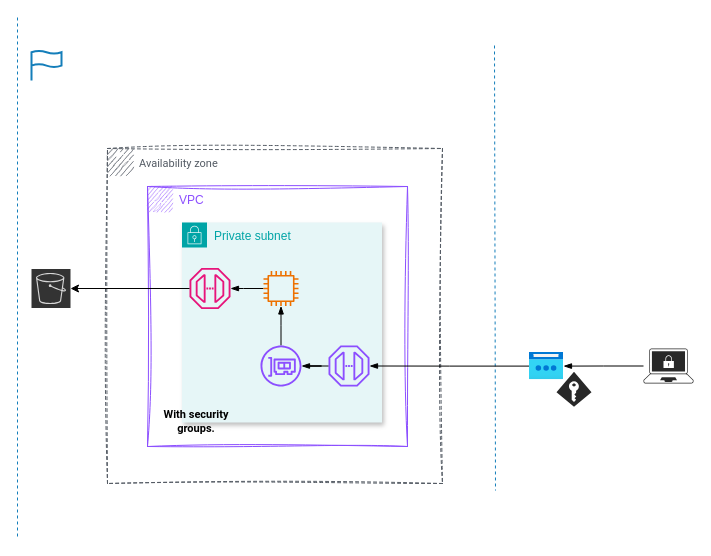
Some shapes in this 711 by 556 pixel diagram are drawn without their labels. The shapes that lost their labels are listed below. From the top down, each one's centre as x and y in pixels, then its label:
At point 46,65: "Region".
At point 280,288: "EC2".
